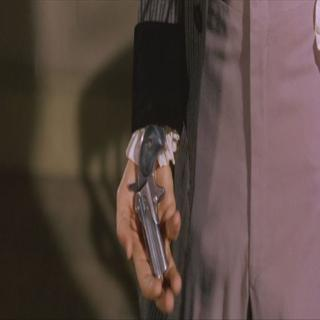gun: (117, 113, 180, 319)
